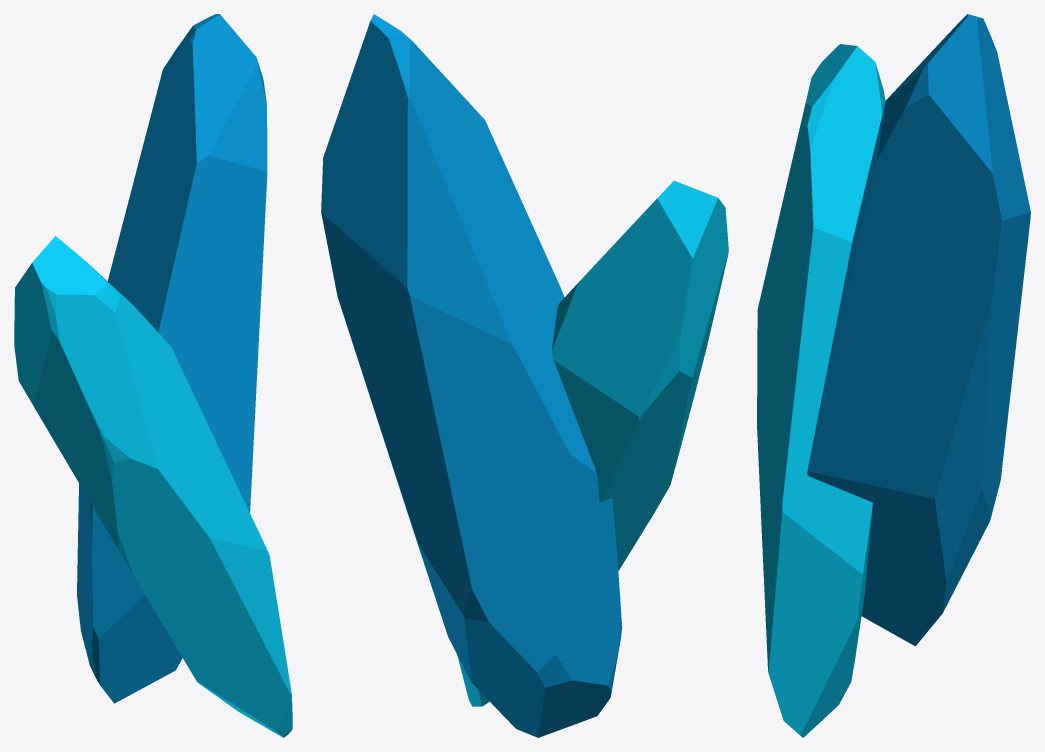
The model's file is iceSpike3.fbx.
3 views of the same model, side by side, from view 1: azimuth 30°, elevation 25°; view 2: azimuth 150°, elevation 25°; view 3: azimuth 270°, elevation 25° (orthographic). The views are drawn at different scales.
Parts seen in each view (by area): view 1: Sphere.013, Sphere.012; view 2: Sphere.012, Sphere.013; view 3: Sphere.012, Sphere.013.
Boxes of the visible parts, x1,y1,x2,y2 form: Sphere.013: (14,236,292,737); Sphere.012: (77,14,267,703); Sphere.012: (321,14,622,737); Sphere.013: (457,180,728,706); Sphere.012: (807,14,1030,646); Sphere.013: (757,44,885,737).
Bounding box in the file's own units: 180 × 409 × 140.
